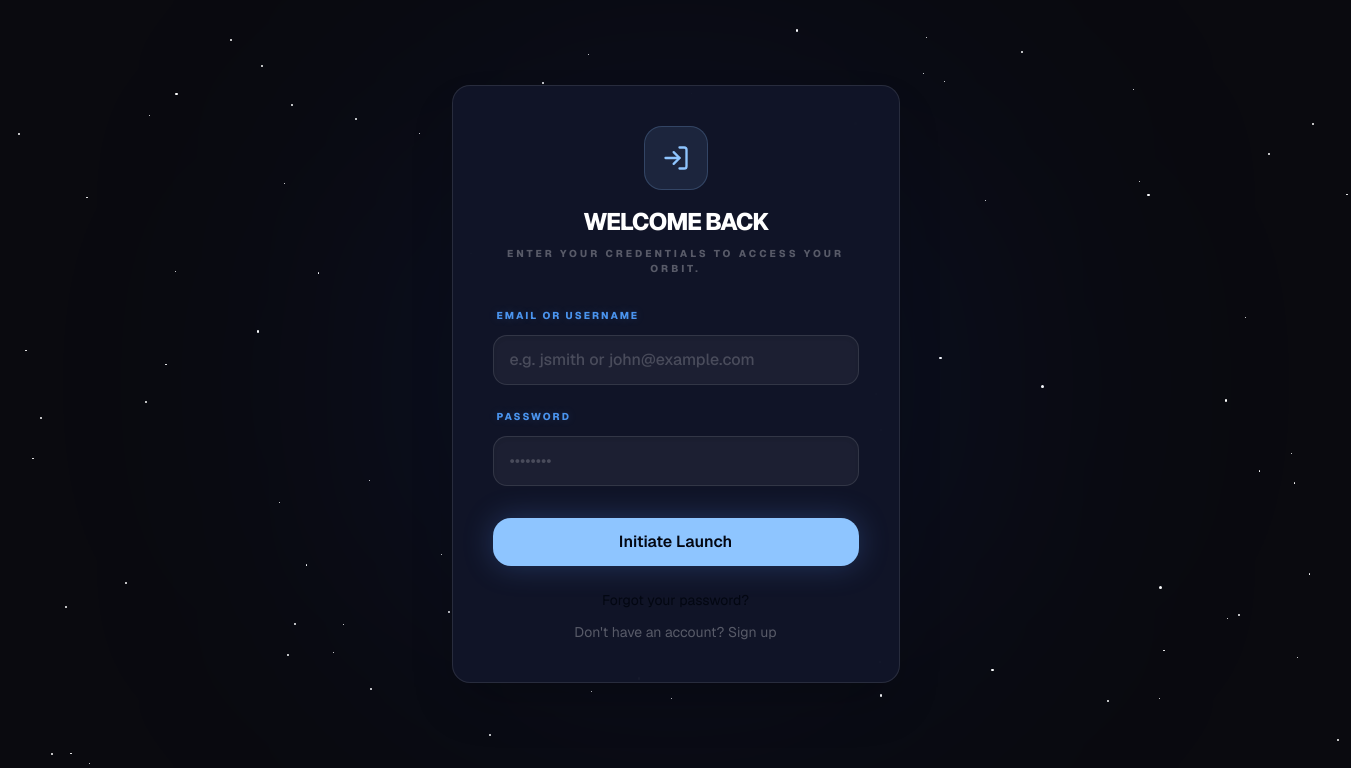
LoginPage › shows unexpected error when session fetch throws
Type "deeti" into the field with placeholder "e.g. jsmith or john@example.com".
click(676, 360); type("deeti")  # box 492,335 -> 858,385
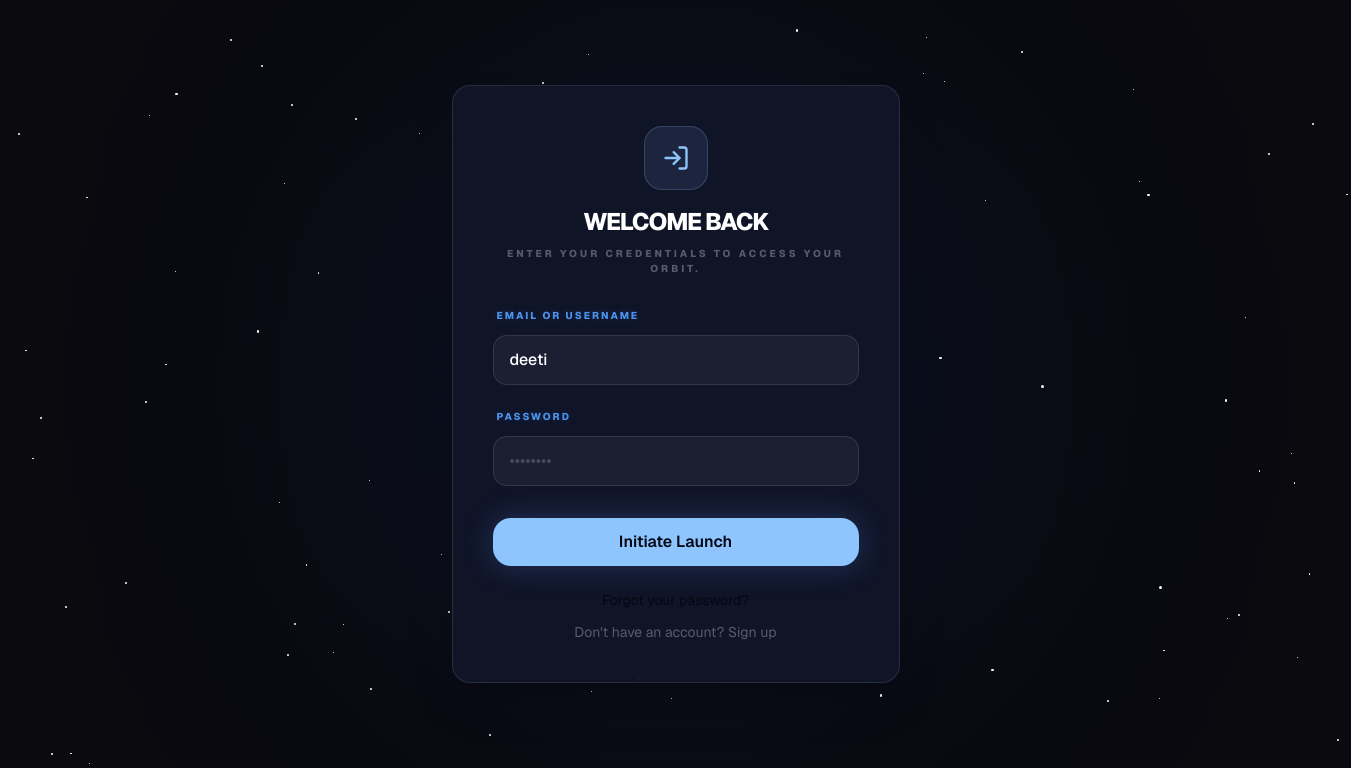
Type "secret123" into the password field with placeholder "••••••••".
click(676, 461); type("secret123")  # box 492,436 -> 858,486
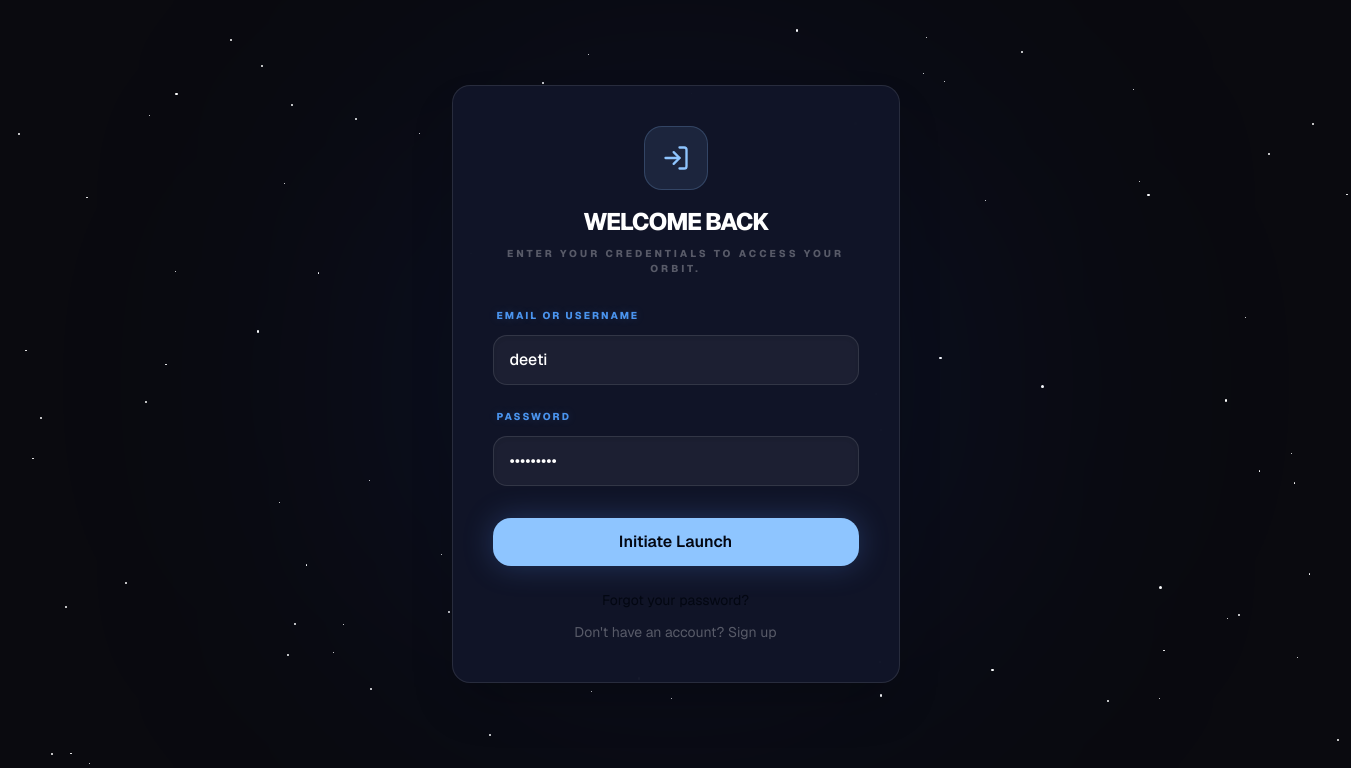
Click the button "Initiate Launch".
click(676, 542)  # box 492,518 -> 858,566
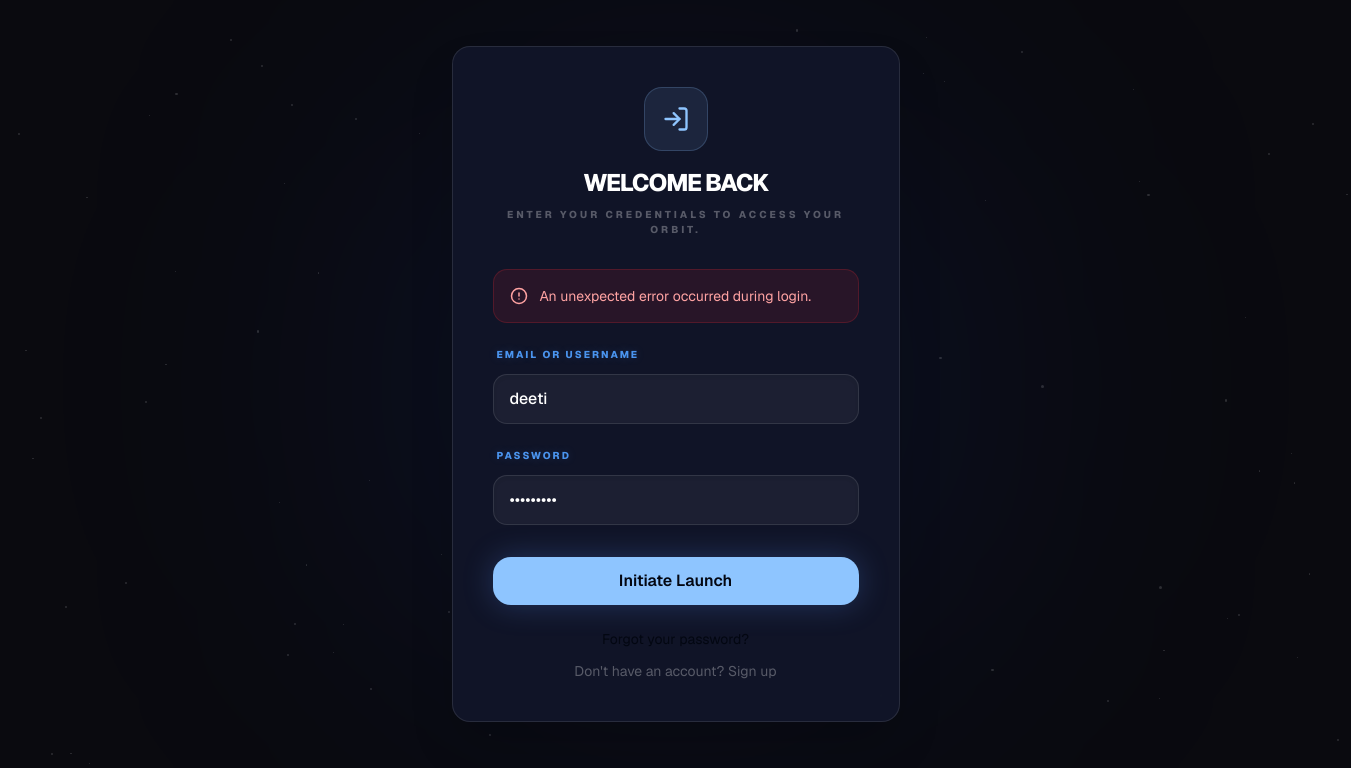
Expected: the button reads "Initiate Launch", 492,557 -> 858,605
Result: the text "An unexpected error occurred during login." is shown at 540,286 -> 811,306
